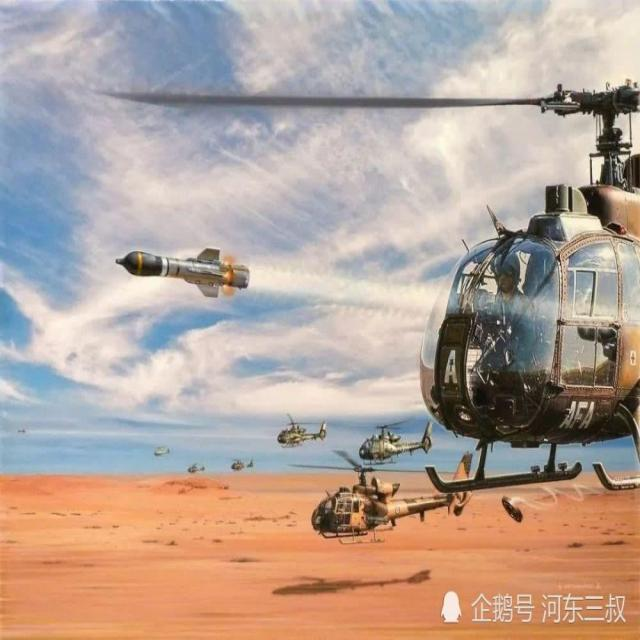MIL_HELO: (107, 43, 640, 515), (290, 450, 482, 550), (348, 410, 436, 467), (268, 406, 334, 454), (226, 453, 264, 482), (144, 437, 178, 464), (179, 458, 215, 476)
